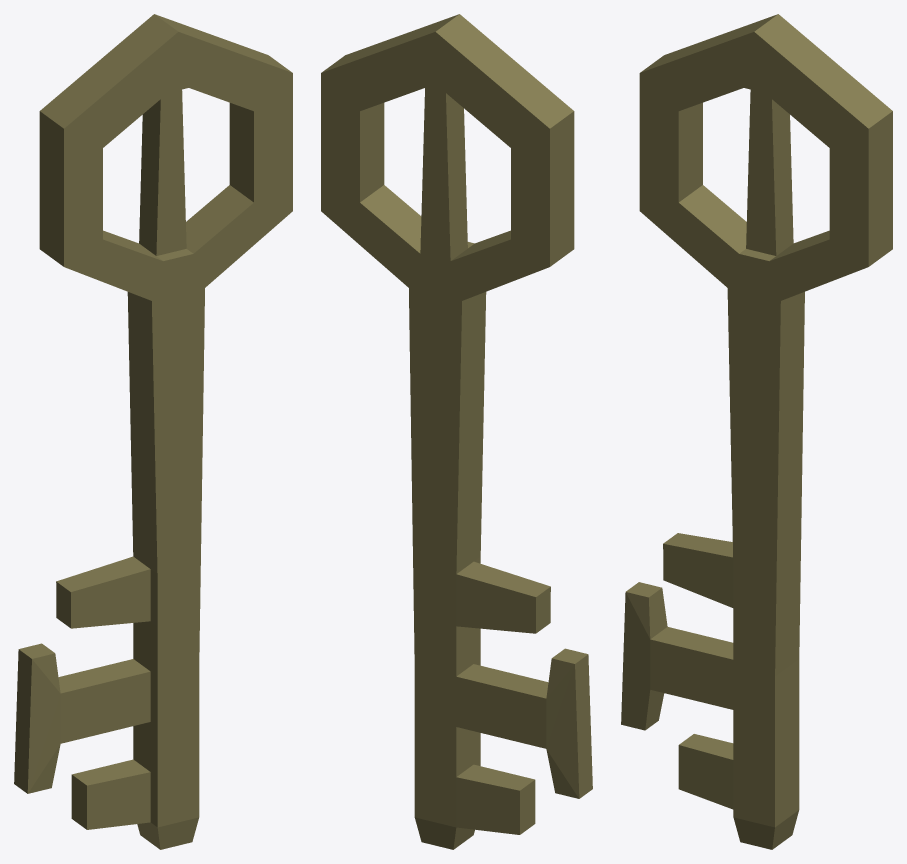
File: key_01_anim.glb
3 renders of one model, left to right at view 1: azimuth 30°, elevation 25°; view 2: azimuth 150°, elevation 25°; view 3: azimuth 330°, elevation 25°, orthographic.
Parts seen in each view (by area): view 1: Circle; view 2: Circle; view 3: Circle.
Part boxes in pixels (<box>): Circle: <box>14,14,292,849</box>; Circle: <box>321,14,592,849</box>; Circle: <box>621,14,892,849</box>.
Bounding box in the file's own units: 2.13 × 6.49 × 0.35.
